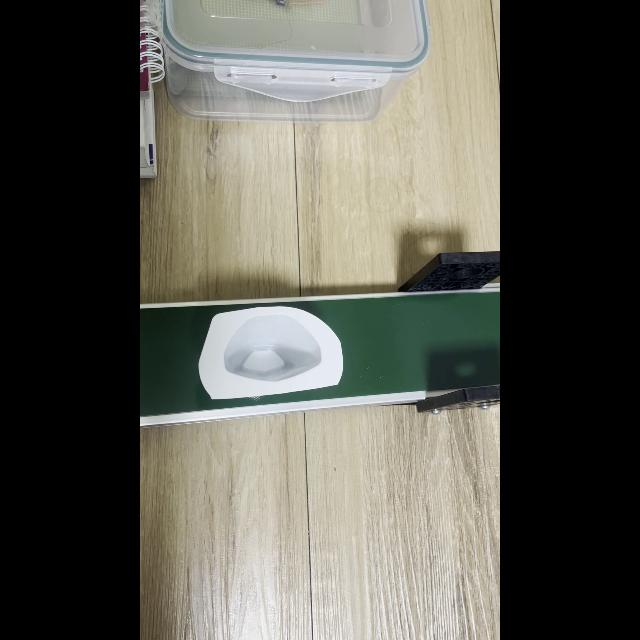clean: (196, 316, 334, 388)
